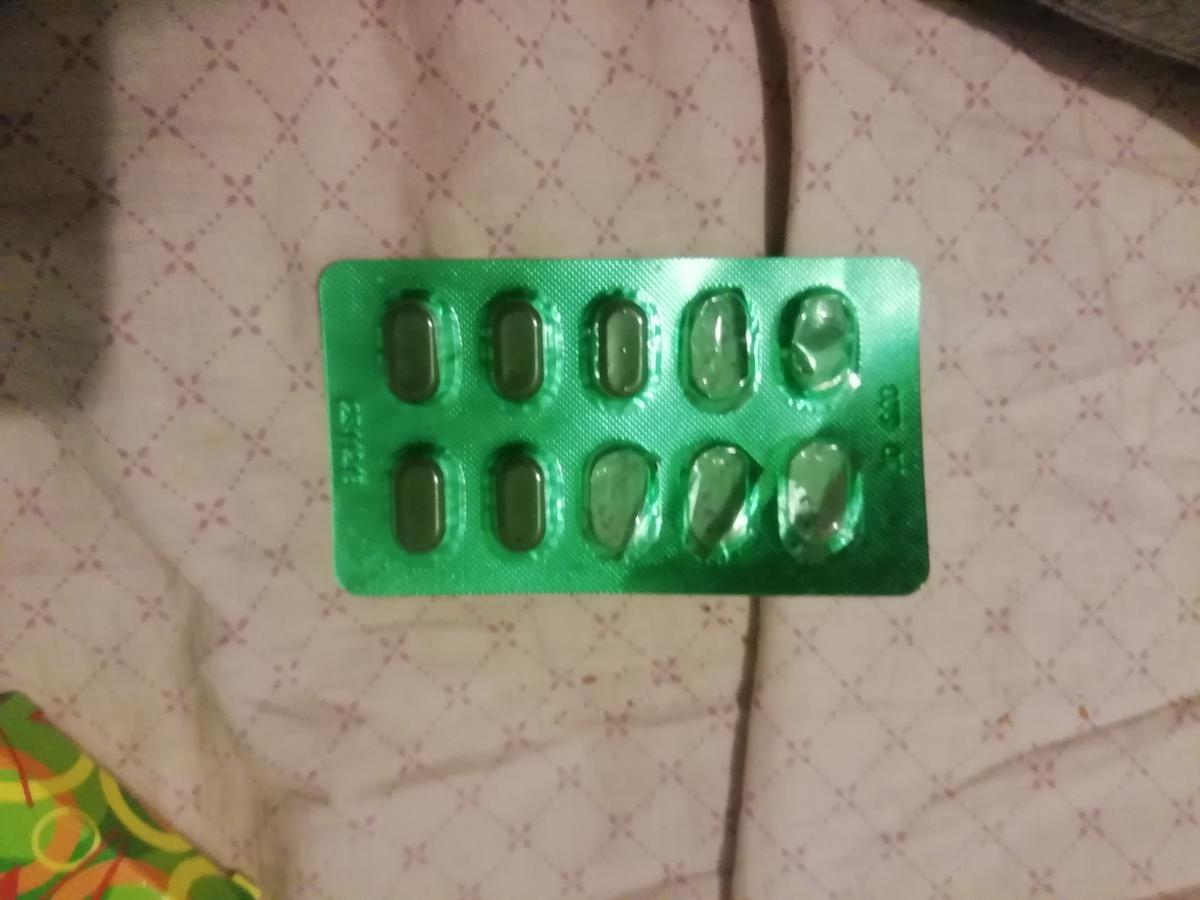tablet: (385, 304, 453, 412), (482, 300, 550, 408), (587, 300, 655, 408), (387, 448, 455, 556), (488, 444, 556, 552), (486, 442, 554, 550)
